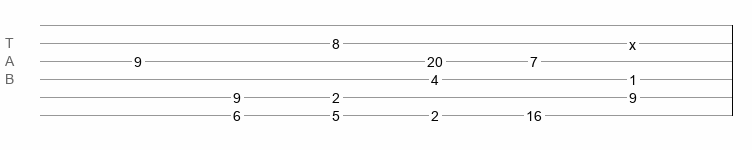1: (629, 72, 637, 82)
16: (526, 108, 542, 118)
2: (332, 90, 340, 100), (431, 108, 439, 118)
20: (427, 54, 443, 64)
4: (431, 72, 439, 82)
5: (332, 108, 340, 118)
6: (233, 108, 241, 118)
7: (530, 54, 538, 64)
8: (332, 36, 340, 46)
9: (134, 54, 142, 64), (233, 90, 241, 100), (629, 90, 637, 100)
x: (629, 37, 636, 45)
